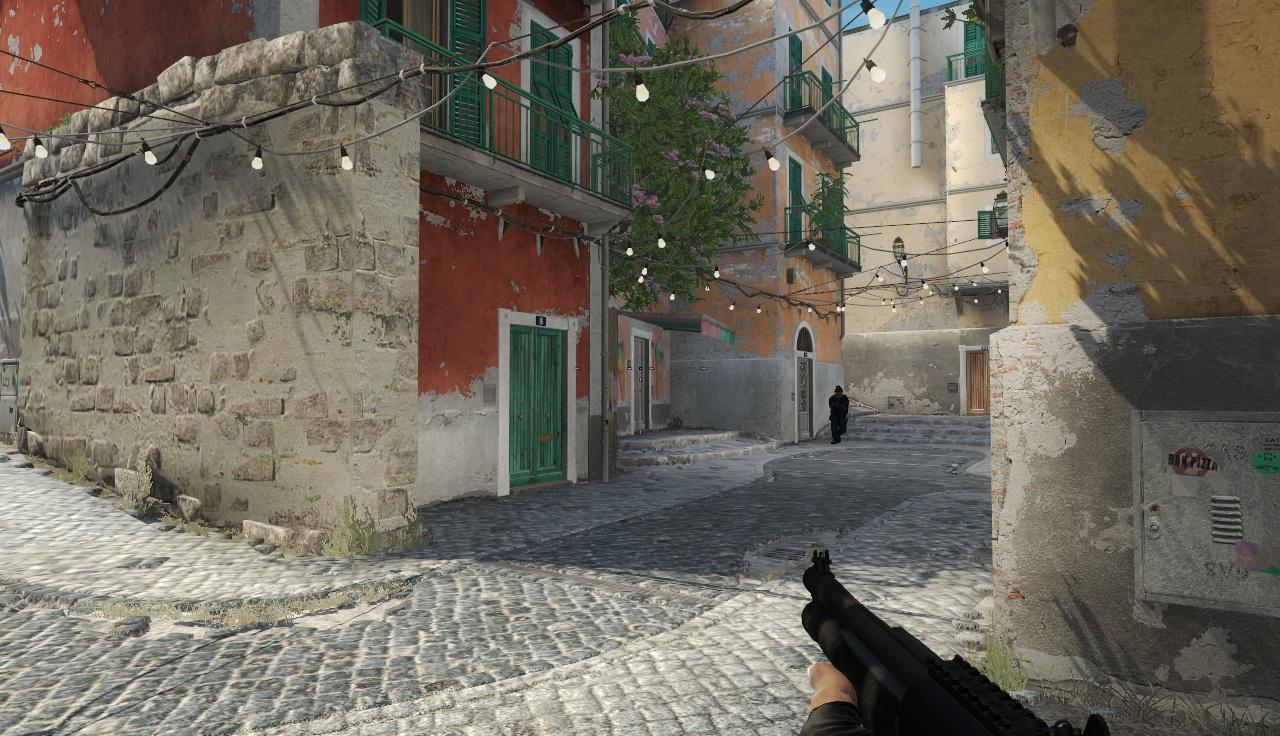ct: (828, 385, 849, 445)
cthead: (833, 386, 844, 398)
shotgun: (788, 549, 1117, 736)
